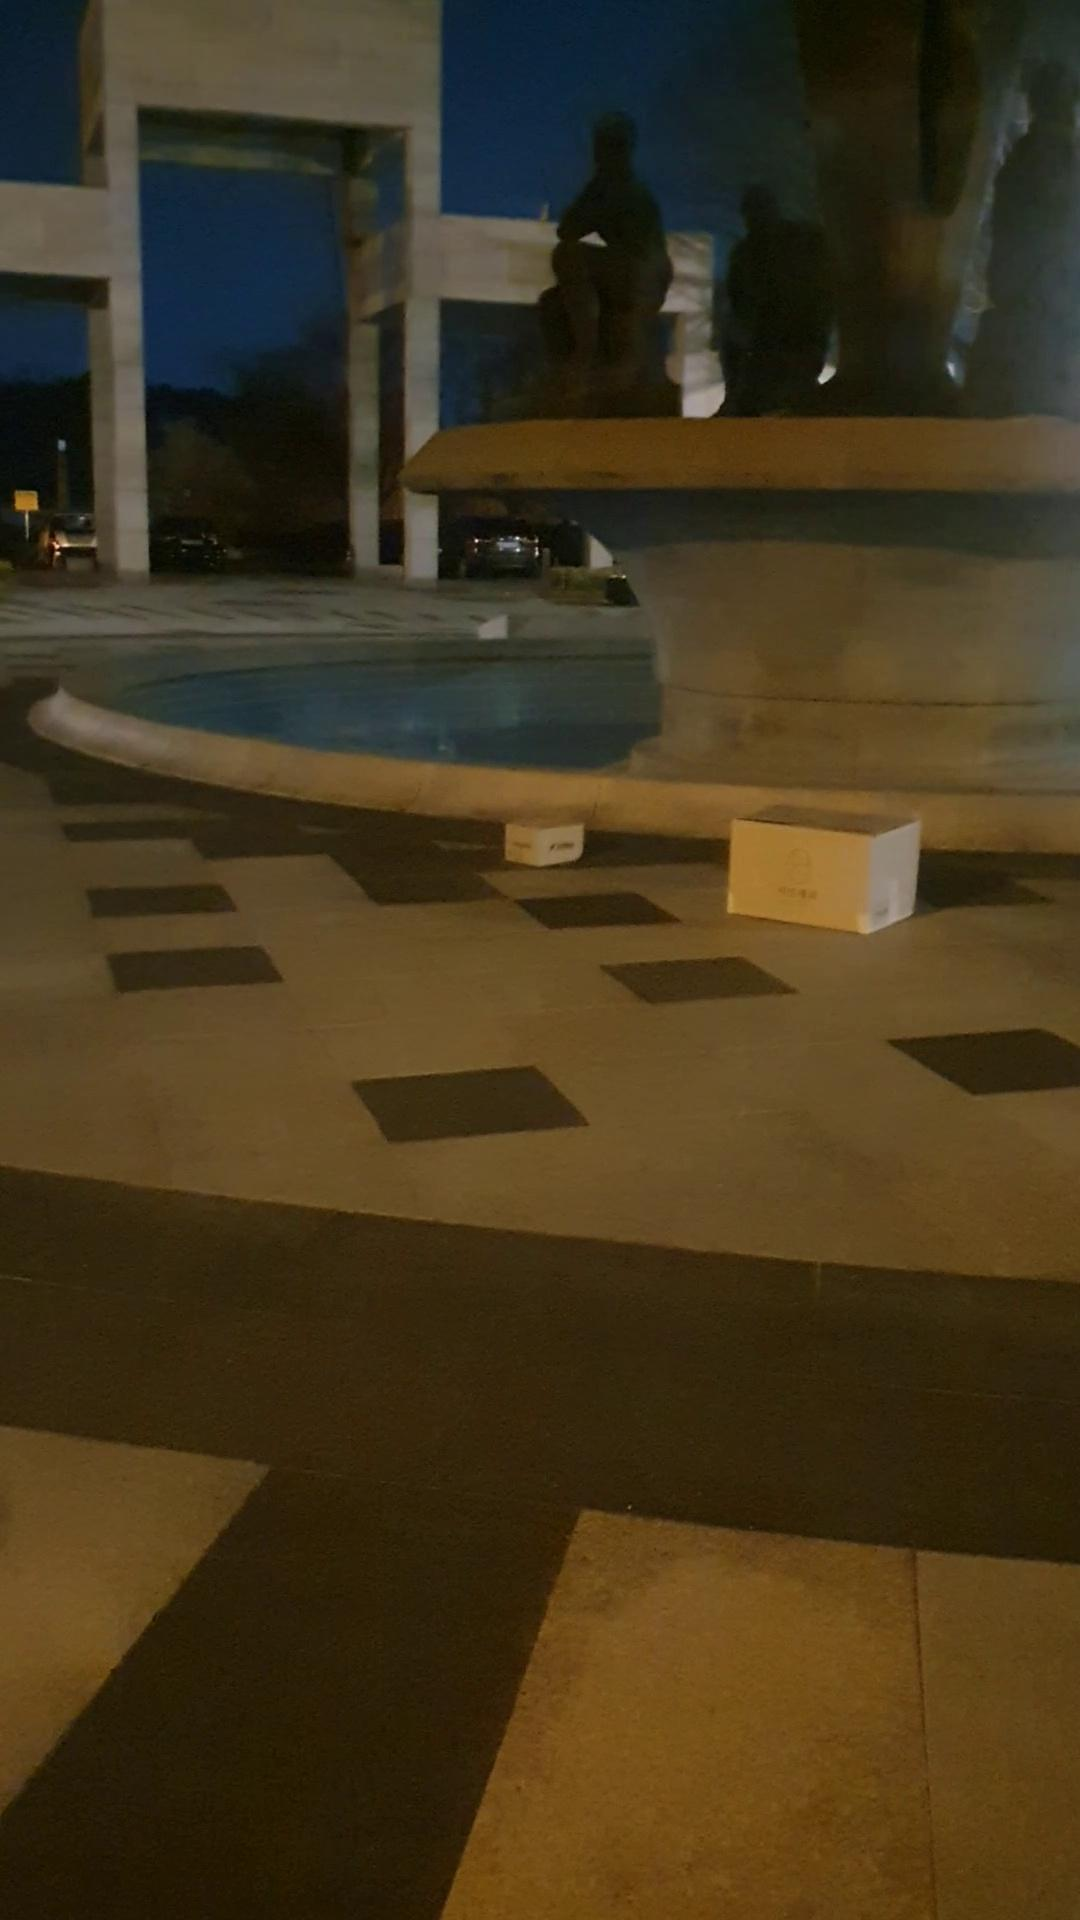Box: (723, 793, 927, 948), (488, 800, 592, 866)
